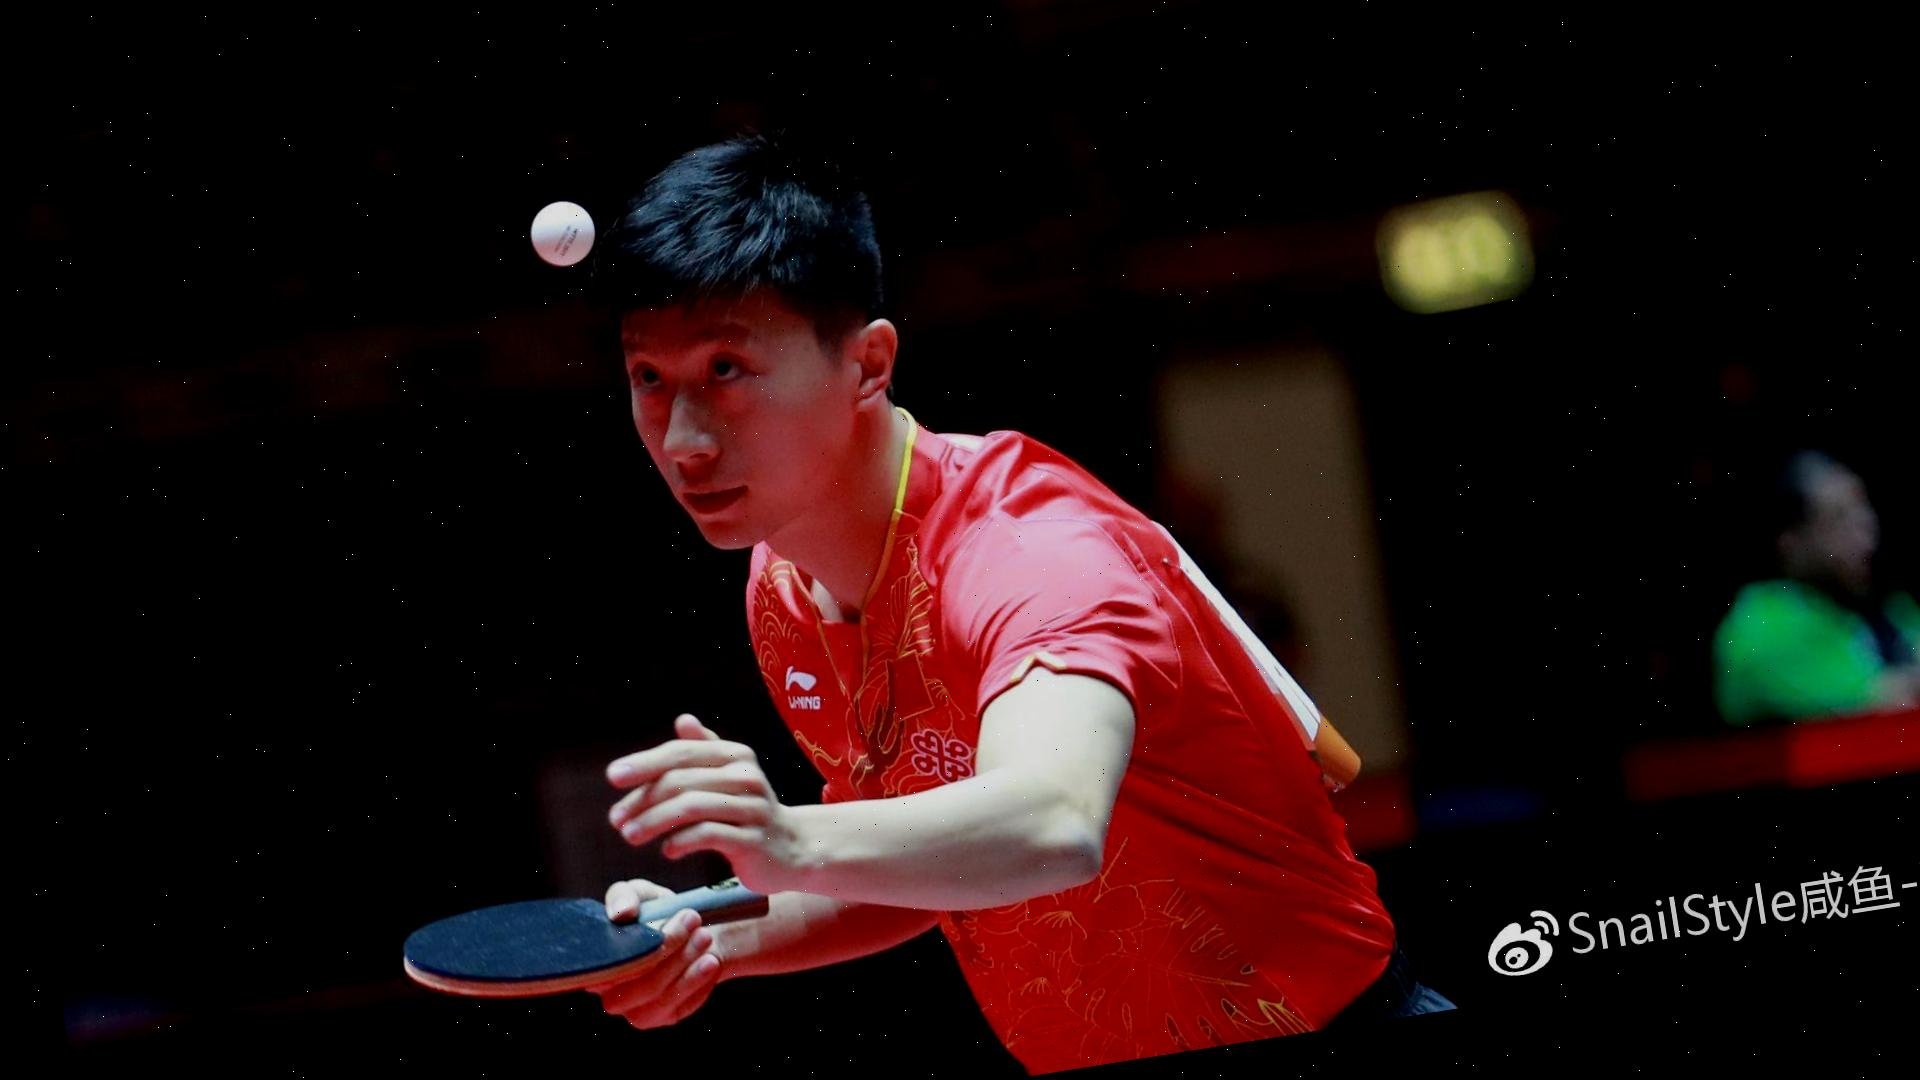ball: (513, 186, 608, 277)
